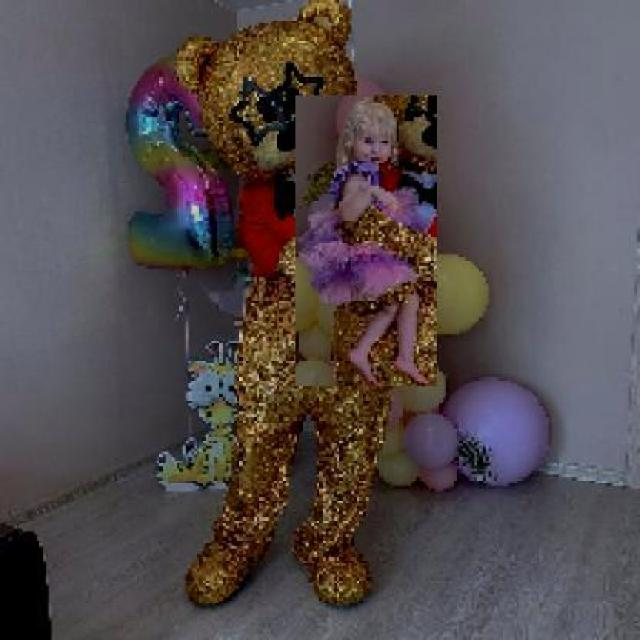child: (294, 95, 437, 388)
